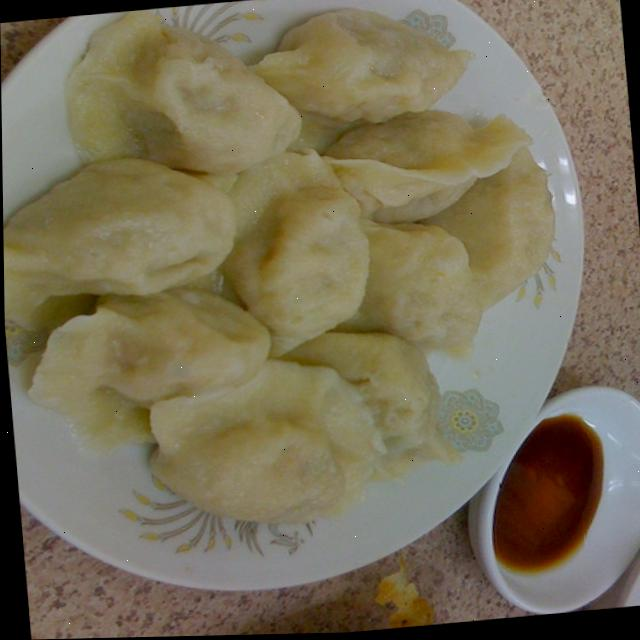带馅早点: (0, 0, 624, 618)
